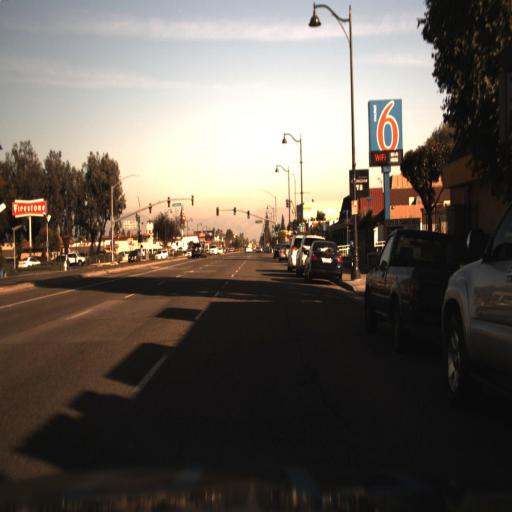car: (440, 194, 512, 407), (362, 232, 471, 347), (298, 239, 348, 286), (302, 233, 348, 284), (282, 227, 299, 281), (294, 234, 312, 280), (61, 244, 90, 266), (14, 252, 40, 274), (62, 249, 88, 271), (124, 244, 144, 269), (149, 242, 170, 263), (15, 252, 39, 270), (189, 240, 205, 260)
